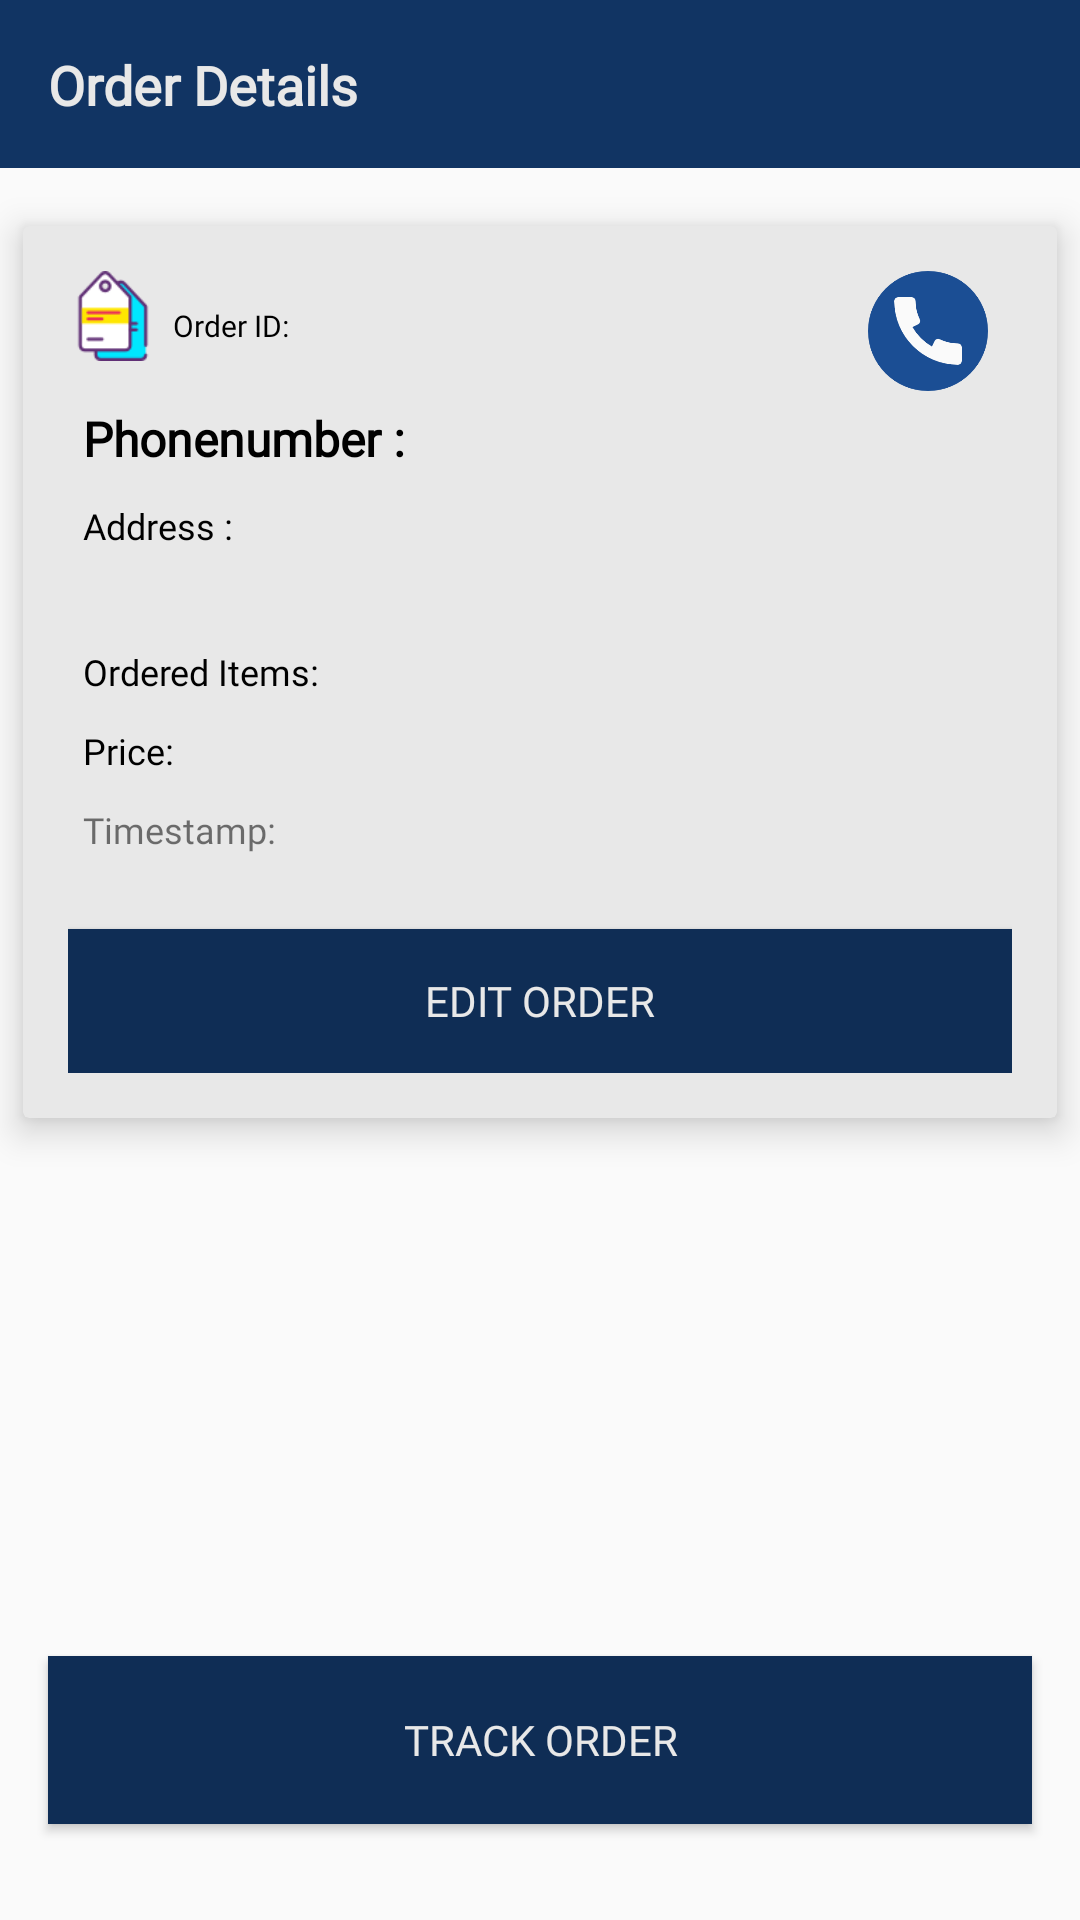

Icons on this 1080w x 1920h Android screen, each with its box as (x1, y1, x2, y2):
tags: (78, 271, 148, 361)
telephone: (868, 271, 988, 391)
